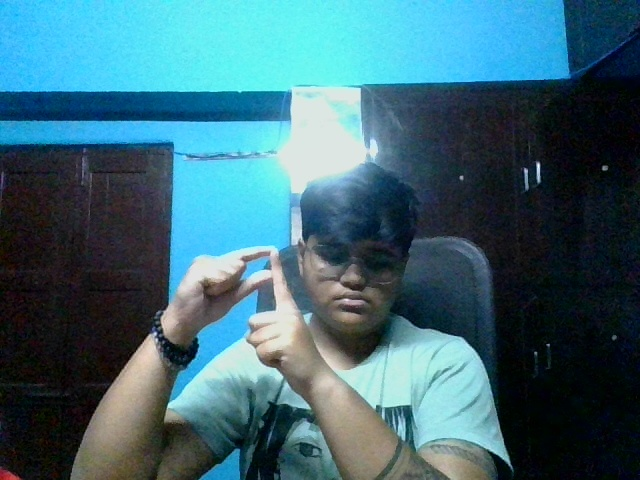P: (176, 242, 317, 388)
